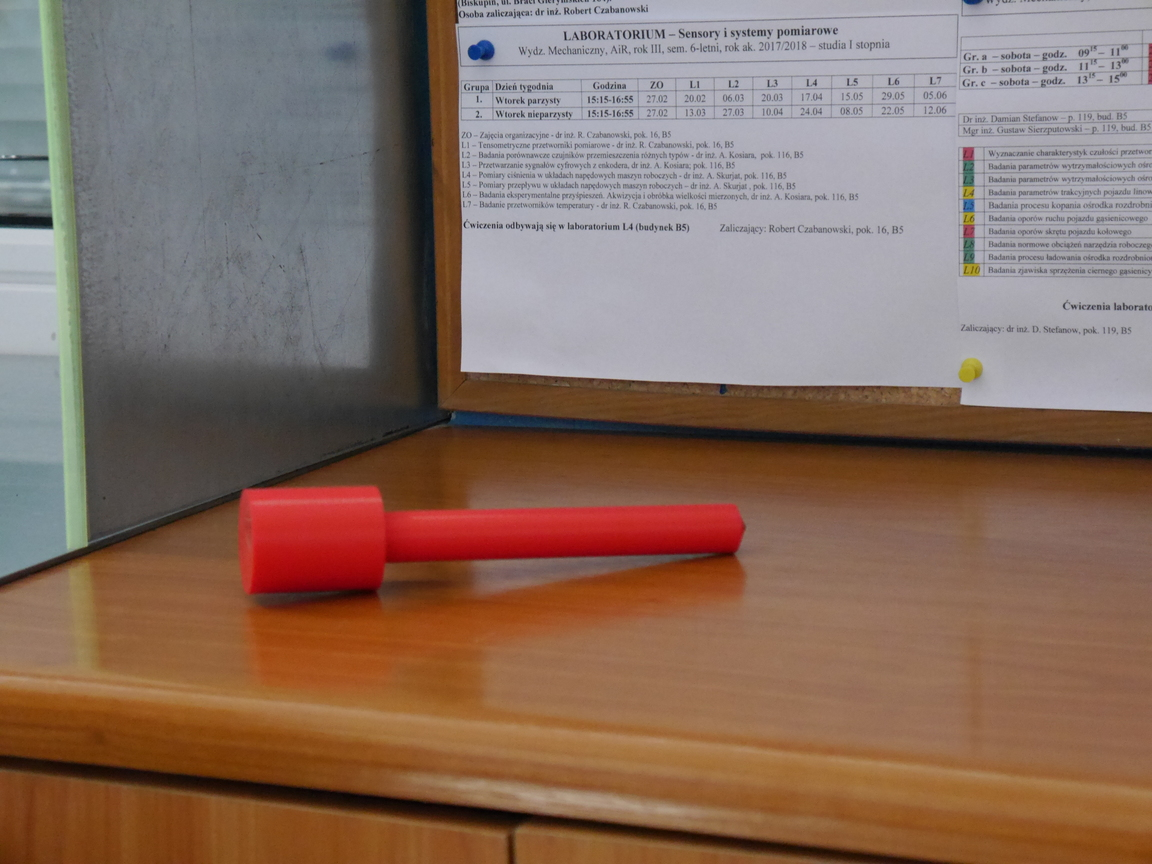cargo_g: (237, 487, 749, 600)
